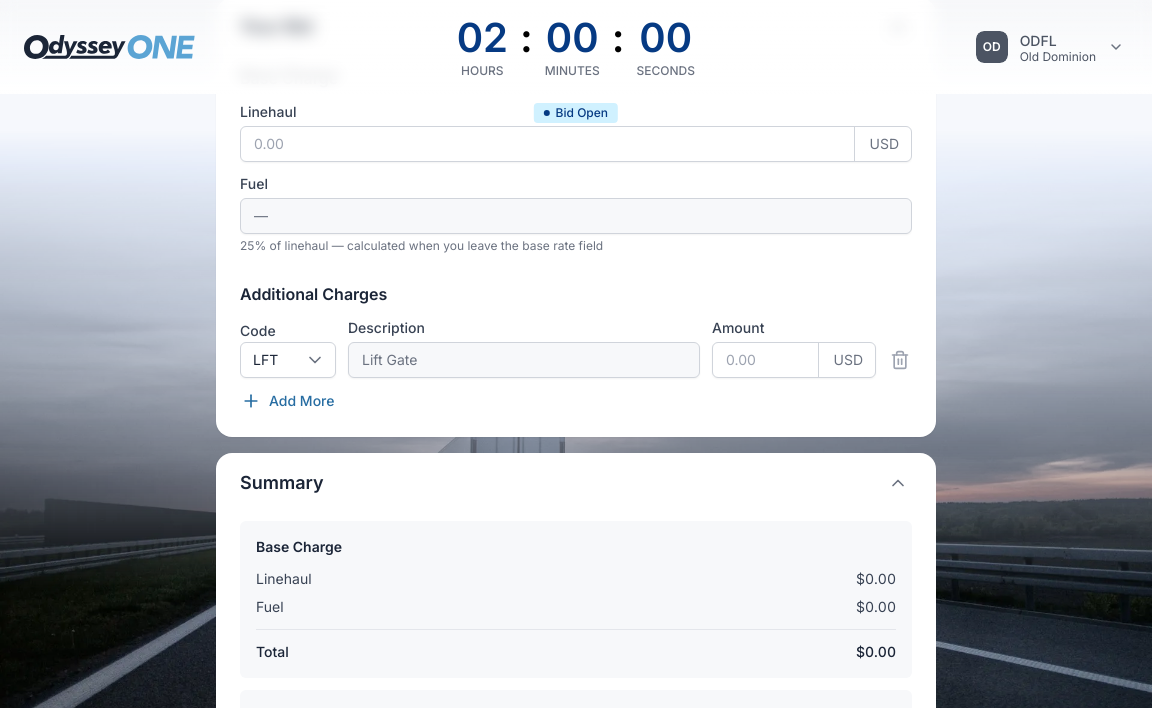
CarrierBid — open quote › with no routing charge lines on the shipment, a special-service row (order.specialServices) still seeds — fully editable and deletable, the derived lock is reti
The image size is (1152, 708).
(page scrolled)
Expected: the dropdown holds "LFT", top-left (253, 350), bottom-right (301, 370)
Expected: the dropdown is enabled, top-left (253, 350), bottom-right (301, 370)
What coordinates should you click on to do the following:
click the button named "Remove charge 1"
I would click on:
 (900, 360)
Its box is top-left (888, 342), bottom-right (912, 378).
(page scrolled)
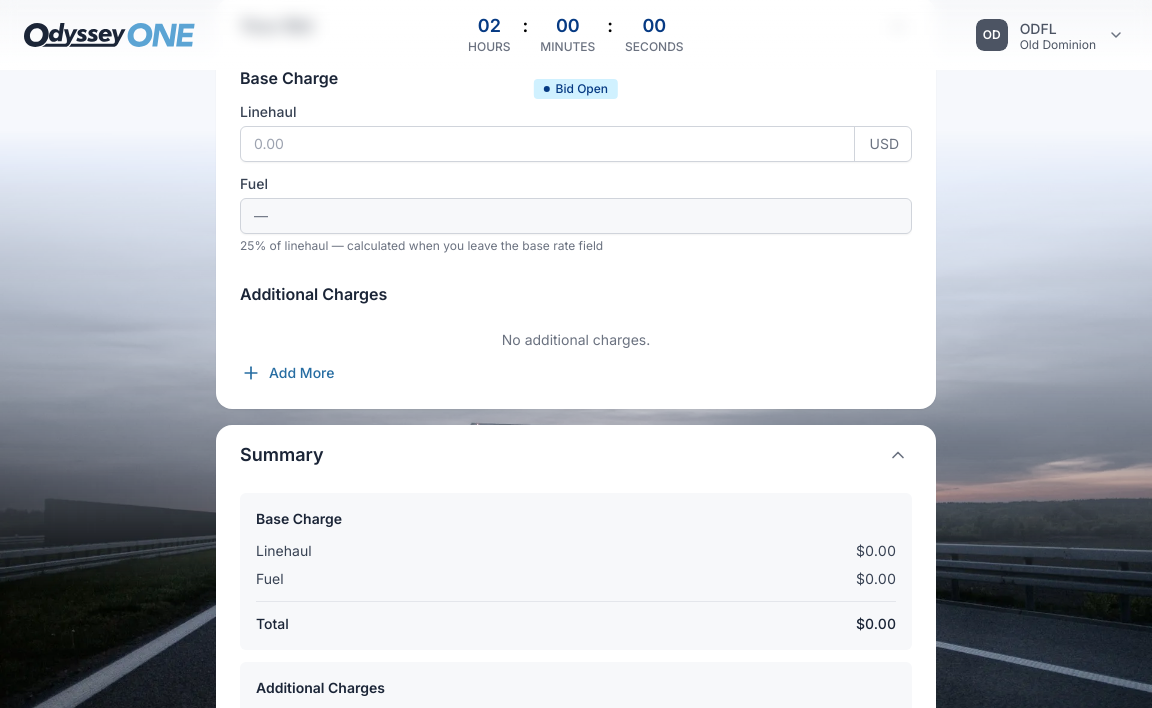
Result: no dropdowns are shown
